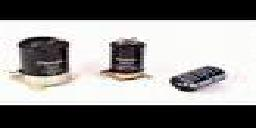Electrolytic-capacitor: (13, 35, 74, 89), (99, 33, 149, 80), (167, 64, 231, 91)
